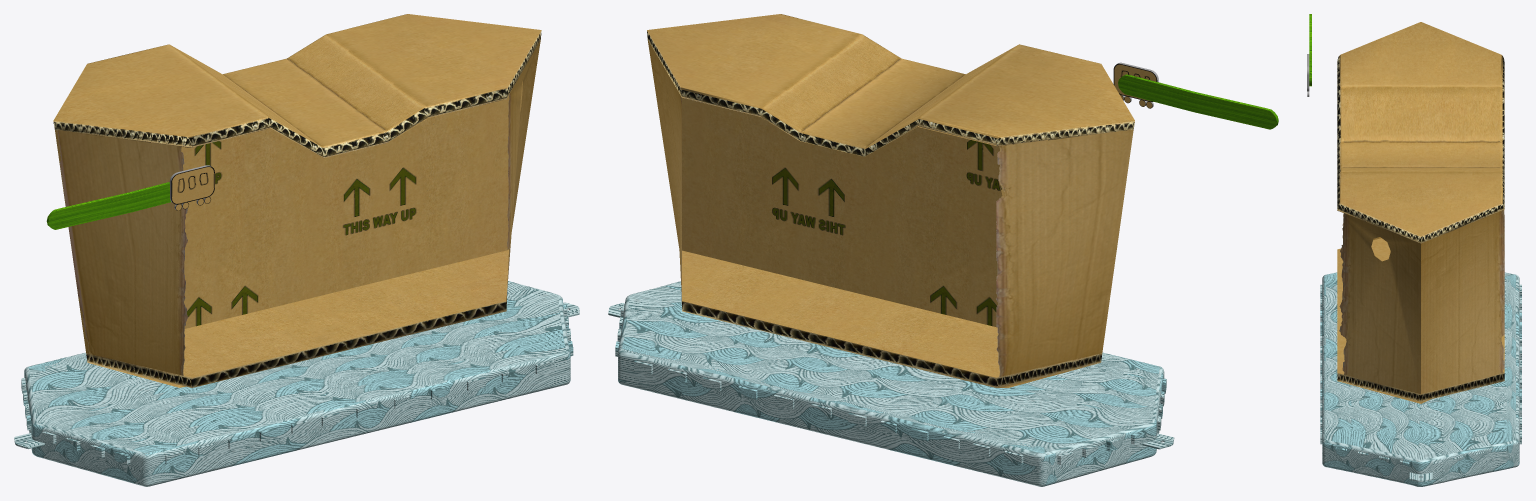
Rendered from HUD Train Icon.fbx.
3 views of the same model, side by side, from view 1: azimuth 30°, elevation 25°; view 2: azimuth 150°, elevation 25°; view 3: azimuth 270°, elevation 25° (orthographic). The views are drawn at different scales.
Visible parts, largest first — view 1: Boat, Train_Carriage, polySurface77, polySurface79; view 2: Boat, Train_Carriage, polySurface77, polySurface79; view 3: Boat, Train_Carriage.
Part boxes in pixels (left/top/right/bottom): Boat: left=53, top=14, right=541, bottom=387; Train_Carriage: left=14, top=281, right=579, bottom=486; polySurface77: left=46, top=182, right=170, bottom=229; polySurface79: left=169, top=165, right=214, bottom=210; Boat: left=647, top=14, right=1134, bottom=387; Train_Carriage: left=608, top=281, right=1174, bottom=486; polySurface77: left=1118, top=74, right=1278, bottom=129; polySurface79: left=1113, top=62, right=1158, bottom=108; Boat: left=1337, top=22, right=1504, bottom=403; Train_Carriage: left=1320, top=272, right=1521, bottom=486.
Size of the model in its own units: 8.96 by 4.73 by 3.46.
